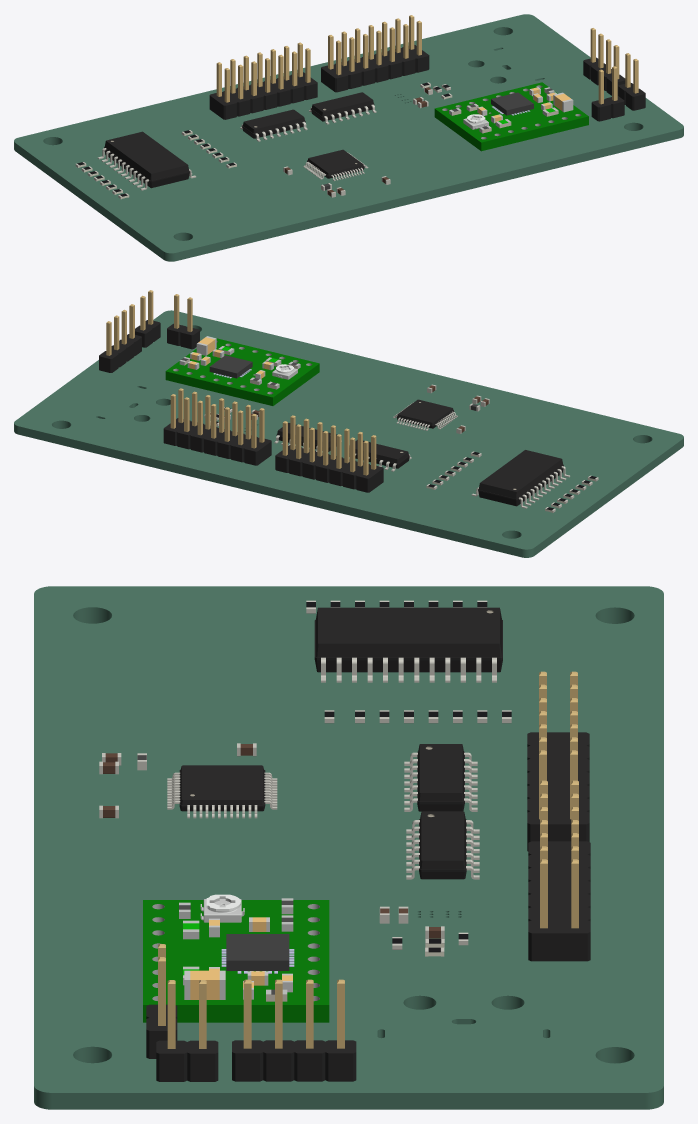
File: Processing_and_measuring.glb
The picture shows the model from 3 angles, top to bottom: view 1: azimuth 30°, elevation 25°; view 2: azimuth 150°, elevation 25°; view 3: azimuth 270°, elevation 25°; orthographic projection. The views are drawn at different scales.
Visible parts, largest first — view 1: =>[0:1:1:12], A1, J3, J1, U2, J4, U3, U1, U4, J6, J5; view 2: =>[0:1:1:12], A1, J1, J3, U2, J4, U3, J6, J5, U1, U4; view 3: =>[0:1:1:12], A1, U2, J3, J4, J1, U3, U4, U1, J5, J6.
Boxes of the visible parts, left/top/right/bottom form: =>[0:1:1:12]: left=14, top=14, right=683, bottom=261; A1: left=434, top=82, right=588, bottom=151; J3: left=321, top=15, right=429, bottom=92; J1: left=209, top=42, right=317, bottom=119; U2: left=97, top=131, right=196, bottom=190; J4: left=583, top=28, right=625, bottom=95; U3: left=303, top=149, right=368, bottom=180; U1: left=240, top=109, right=307, bottom=141; U4: left=309, top=92, right=376, bottom=124; J6: left=591, top=66, right=624, bottom=121; J5: left=618, top=53, right=645, bottom=110; =>[0:1:1:12]: left=14, top=310, right=683, bottom=557; A1: left=165, top=336, right=319, bottom=405; J1: left=275, top=415, right=383, bottom=492; J3: left=163, top=388, right=271, bottom=465; U2: left=471, top=450, right=570, bottom=508; J4: left=99, top=304, right=141, bottom=372; U3: left=393, top=399, right=457, bottom=430; J6: left=167, top=294, right=199, bottom=349; J5: left=135, top=290, right=160, bottom=347; U1: left=349, top=440, right=411, bottom=471; U4: left=274, top=423, right=341, bottom=451; =>[0:1:1:12]: left=34, top=586, right=663, bottom=1109; A1: left=143, top=894, right=329, bottom=1022; U2: left=314, top=607, right=502, bottom=682; J3: left=528, top=780, right=590, bottom=961; J4: left=232, top=979, right=356, bottom=1081; J1: left=527, top=671, right=589, bottom=851; U3: left=167, top=765, right=277, bottom=818; U4: left=406, top=811, right=479, bottom=879; U1: left=404, top=744, right=477, bottom=811; J5: left=156, top=980, right=218, bottom=1081; J6: left=146, top=944, right=177, bottom=1058.
Bounding box in the file's own units: 0.098 × 0.0115 × 0.0515.
